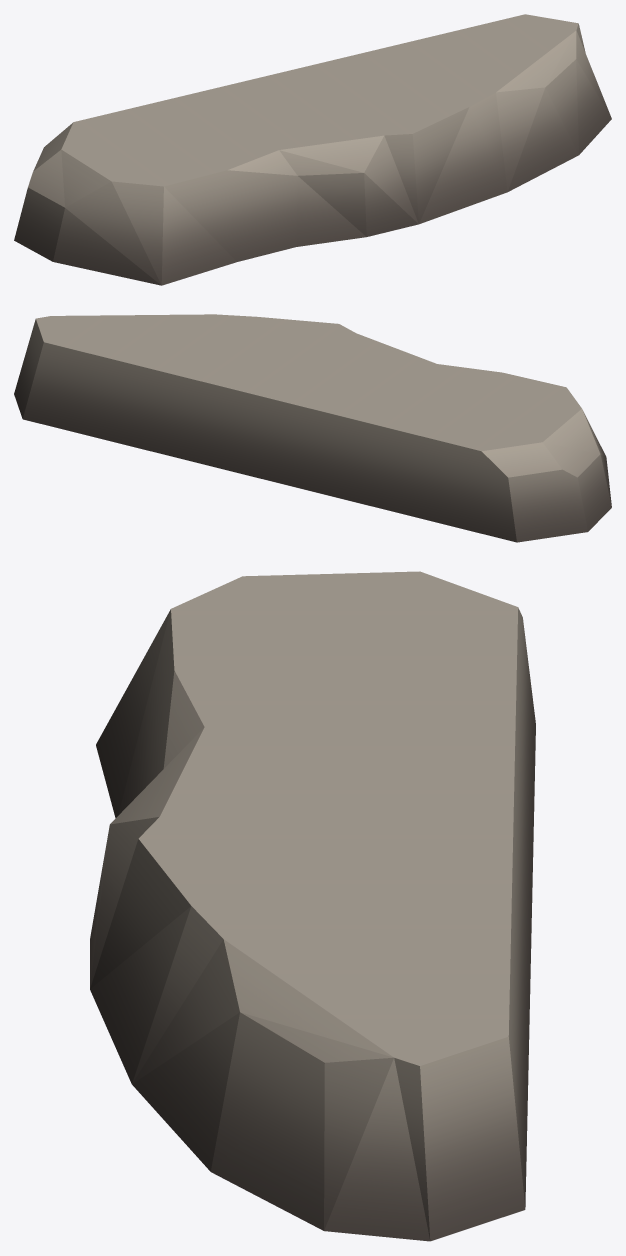
Rendered from Stein_tisch.fbx.
3 renders of one model, top to bottom at view 1: azimuth 30°, elevation 25°; view 2: azimuth 150°, elevation 25°; view 3: azimuth 270°, elevation 25°, orthographic. The views are drawn at different scales.
Visible parts, largest first — view 1: Cylinder; view 2: Cylinder; view 3: Cylinder.
Part boxes in pixels (x1,y1,x2,y2): Cylinder: [14, 14, 611, 285]; Cylinder: [14, 314, 611, 542]; Cylinder: [90, 571, 535, 1241].
Size of the model in its own units: 765 by 100 by 258.
